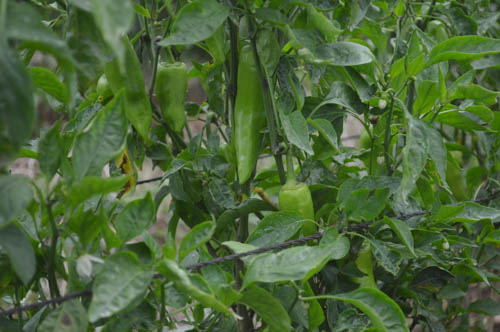ChiliPepper: (235, 48, 265, 180), (110, 41, 149, 133), (154, 62, 186, 129), (282, 186, 317, 240)
